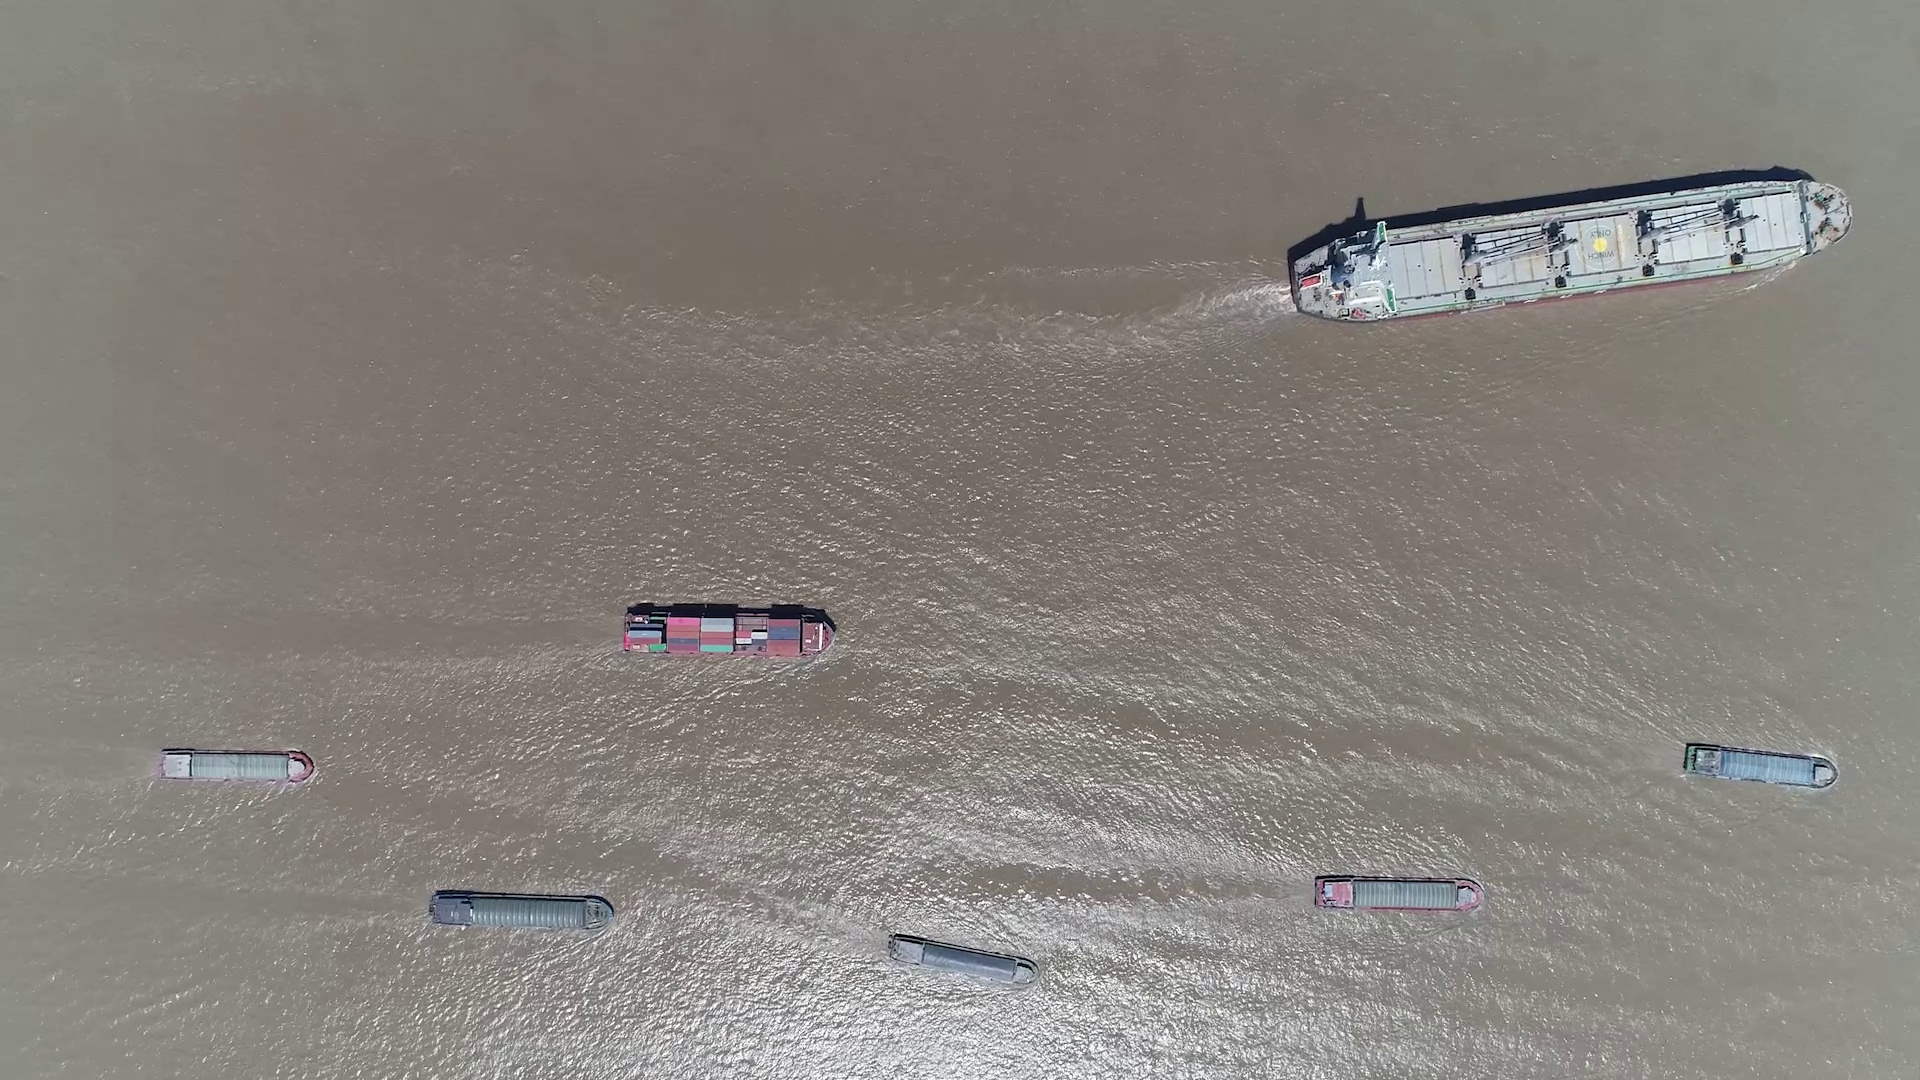ship: (1284, 179, 1851, 323), (621, 607, 835, 658), (426, 890, 612, 930), (889, 935, 1035, 985), (1683, 741, 1837, 789), (1312, 876, 1484, 914), (160, 748, 313, 783)
